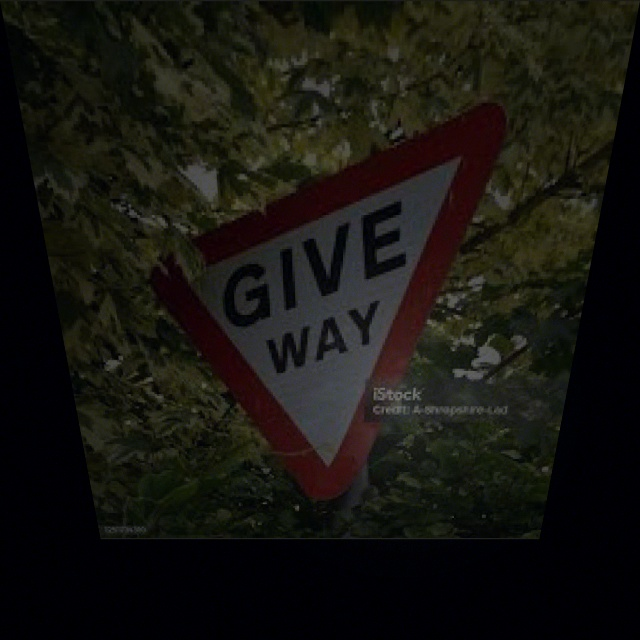Give_Way: (135, 116, 494, 487)
